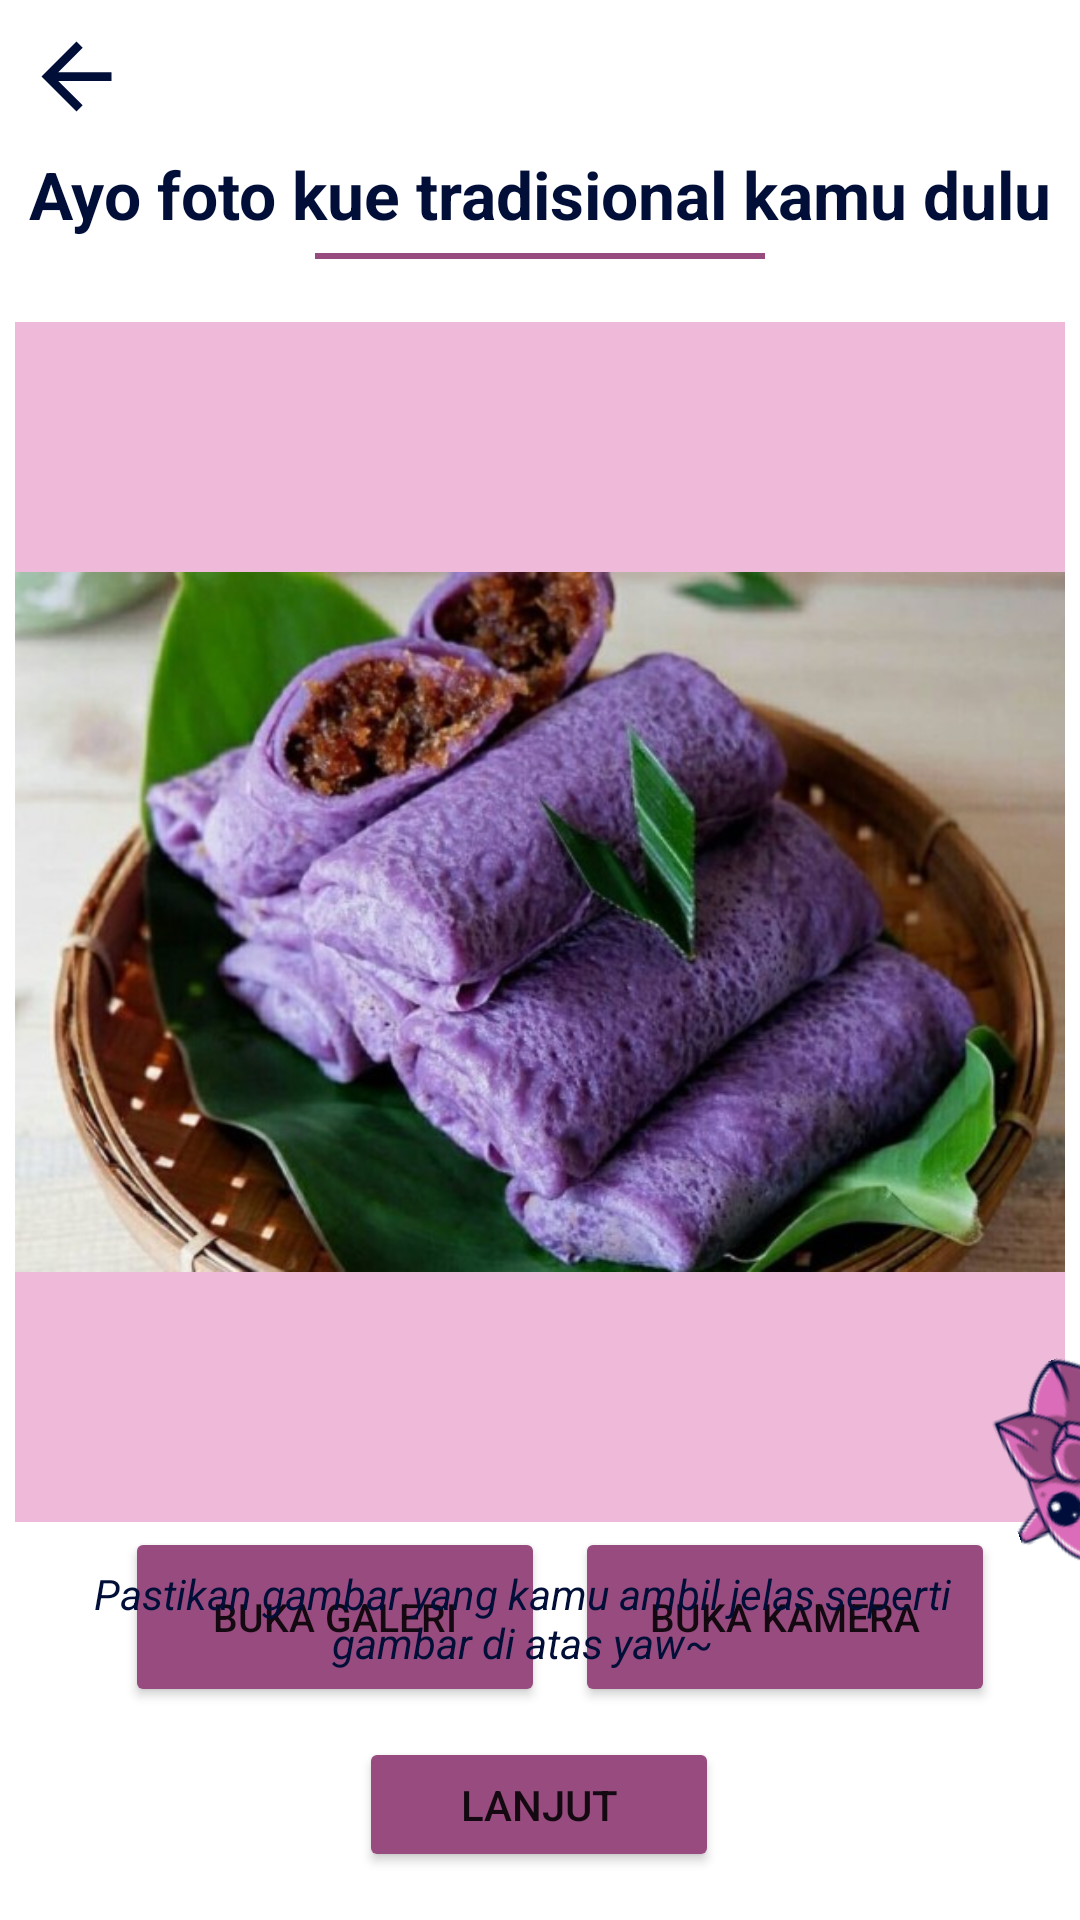

Icons on this 1080px×1920px Android screen, each with the point to tap as (x,y):
arrow back: (76,76)
